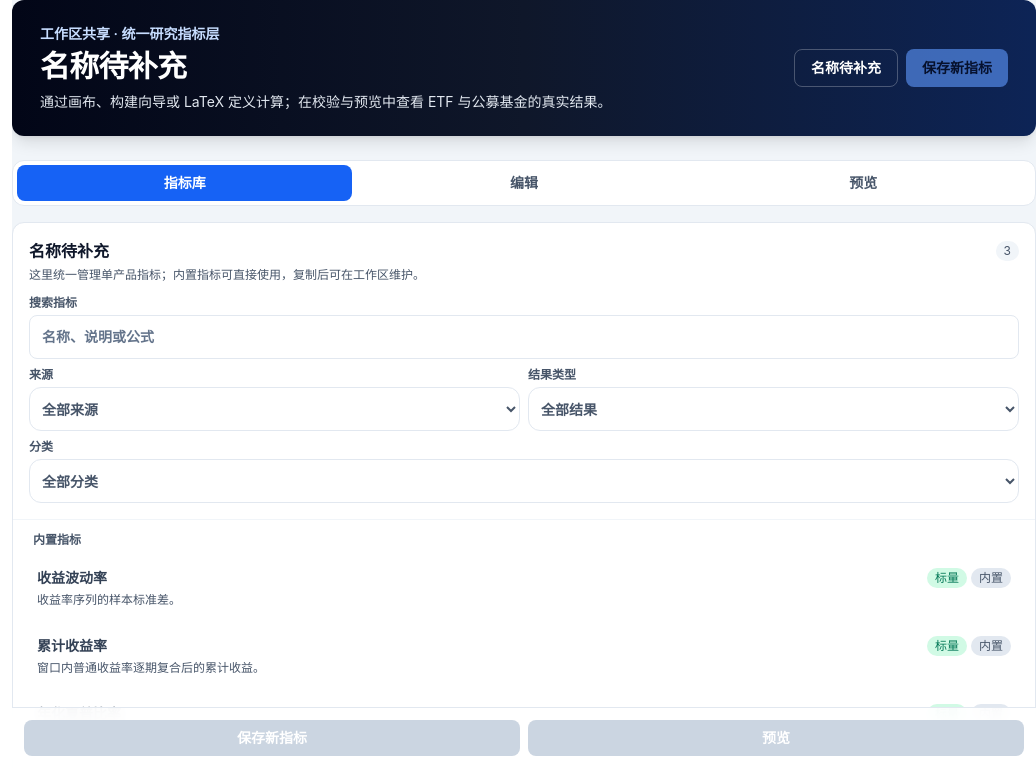
Test case: IndicatorStudio › 校验与预览保留深链中的多个产品，并在一次请求中批量计算
Click the button "收益波动率 标量 内置 收益率序列的样本标准差。": [72, 578] box [25, 556, 1023, 620]
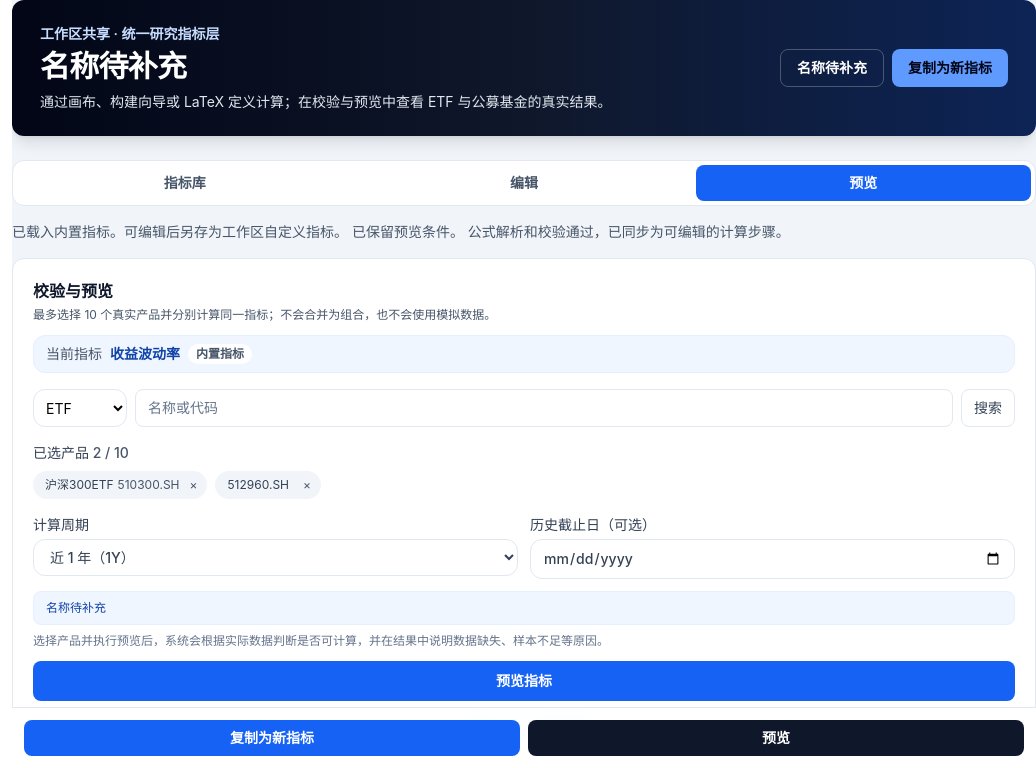
Click the button "预览指标": [524, 681] box [33, 661, 1015, 701]
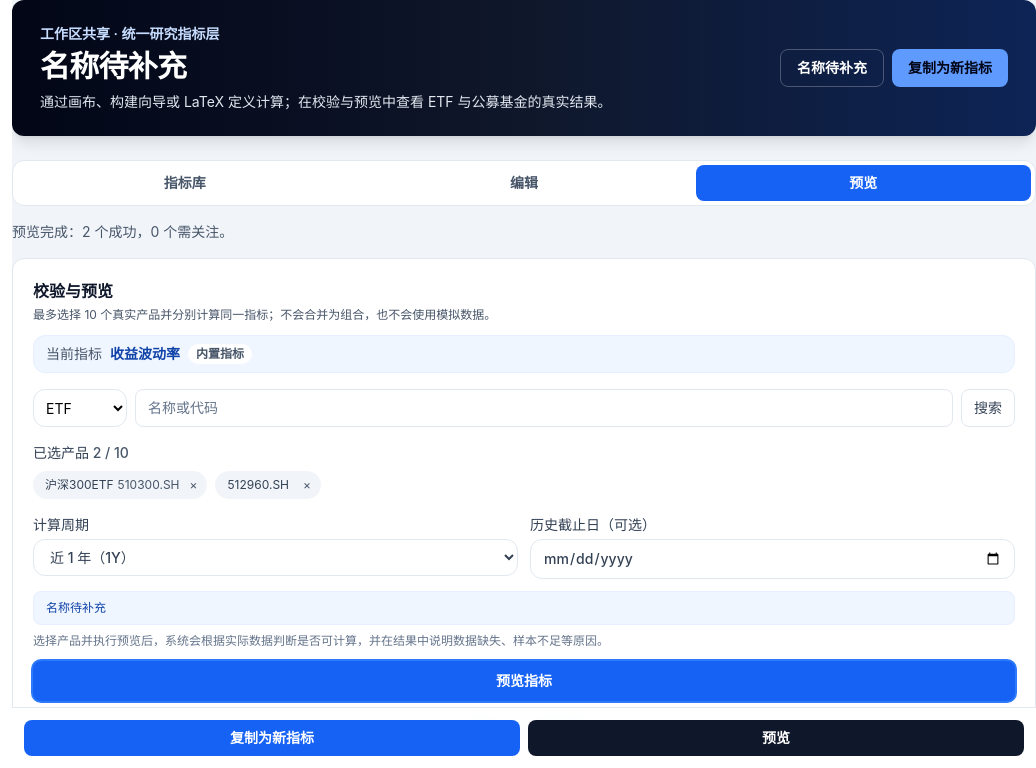
expect the text "512960.SH" is shown: met, box [228, 477, 289, 493]
expect the text "预览完成：2 个成功，0 个需关注。" is shown: met, box [12, 223, 233, 240]
